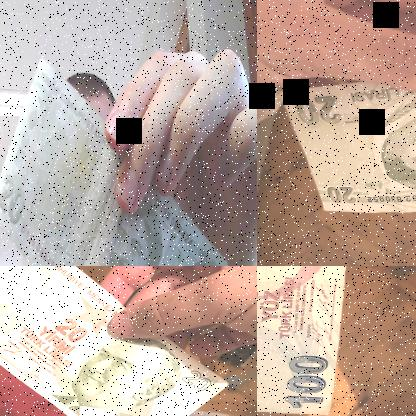5 TL: (0, 58, 228, 265)
